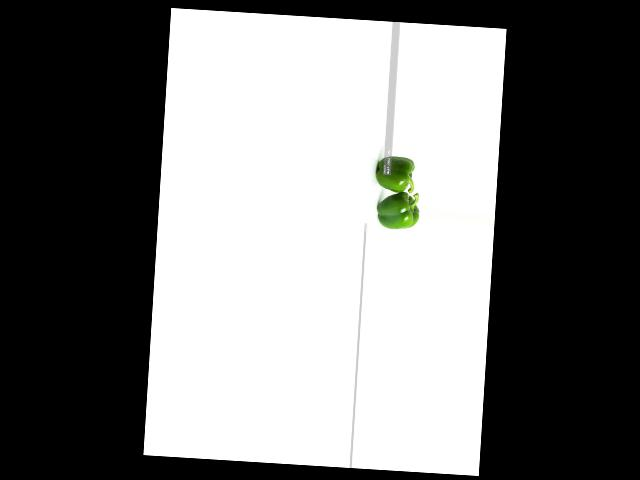bell_pepper: (369, 191, 423, 230)
